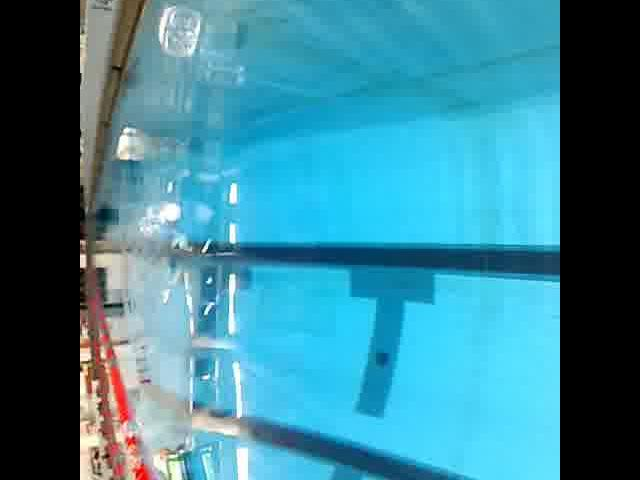Bottle: (151, 0, 205, 63), (135, 192, 187, 246), (115, 118, 138, 164)
Can: (161, 445, 199, 480)
